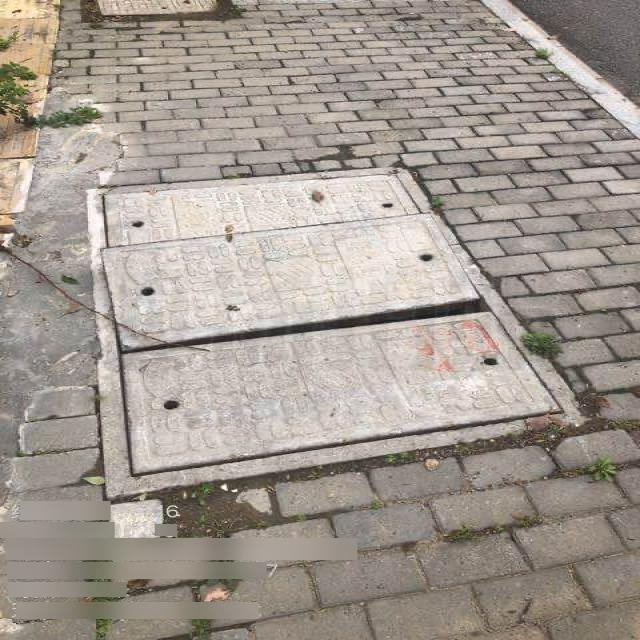Faulty: (85, 167, 586, 497)
